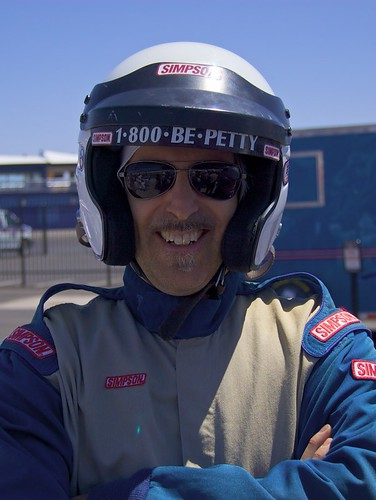helmet: (69, 31, 286, 270)
